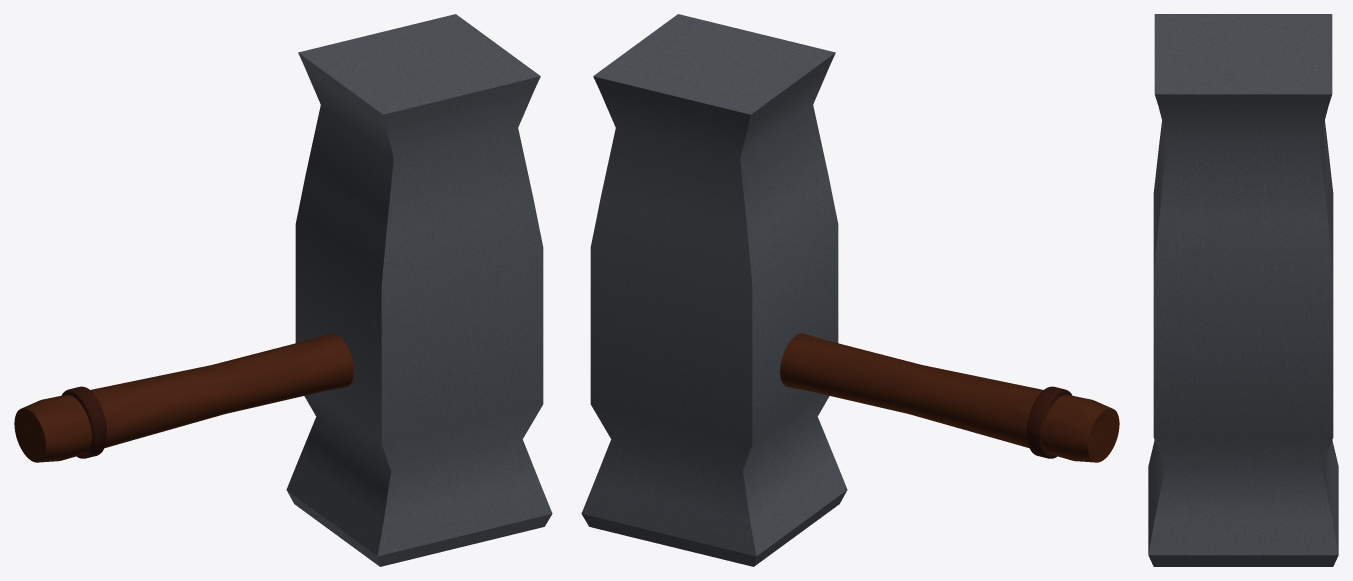
File: hammer.glb
The picture shows the model from 3 angles, left to right: view 1: azimuth 30°, elevation 25°; view 2: azimuth 150°, elevation 25°; view 3: azimuth 270°, elevation 25°; orthographic projection. The views are drawn at different scales.
Visible parts, largest first — view 1: hammer; view 2: hammer; view 3: hammer.
Part boxes in pixels (left/top/right/bottom): hammer: left=14, top=14, right=552, bottom=566; hammer: left=581, top=14, right=1119, bottom=566; hammer: left=1148, top=14, right=1338, bottom=566.
Size of the model in its own units: 1.83 by 1.65 by 0.604.
Materials: 4 (4 with a texture image).
